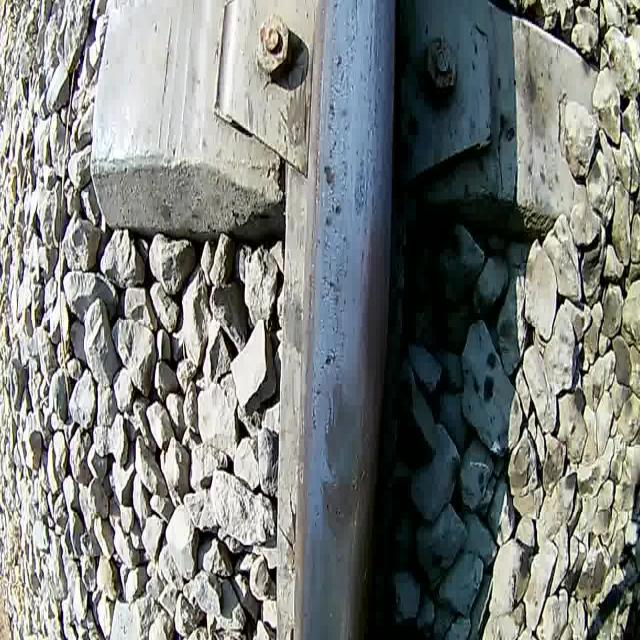Squats: (317, 375, 366, 545)
